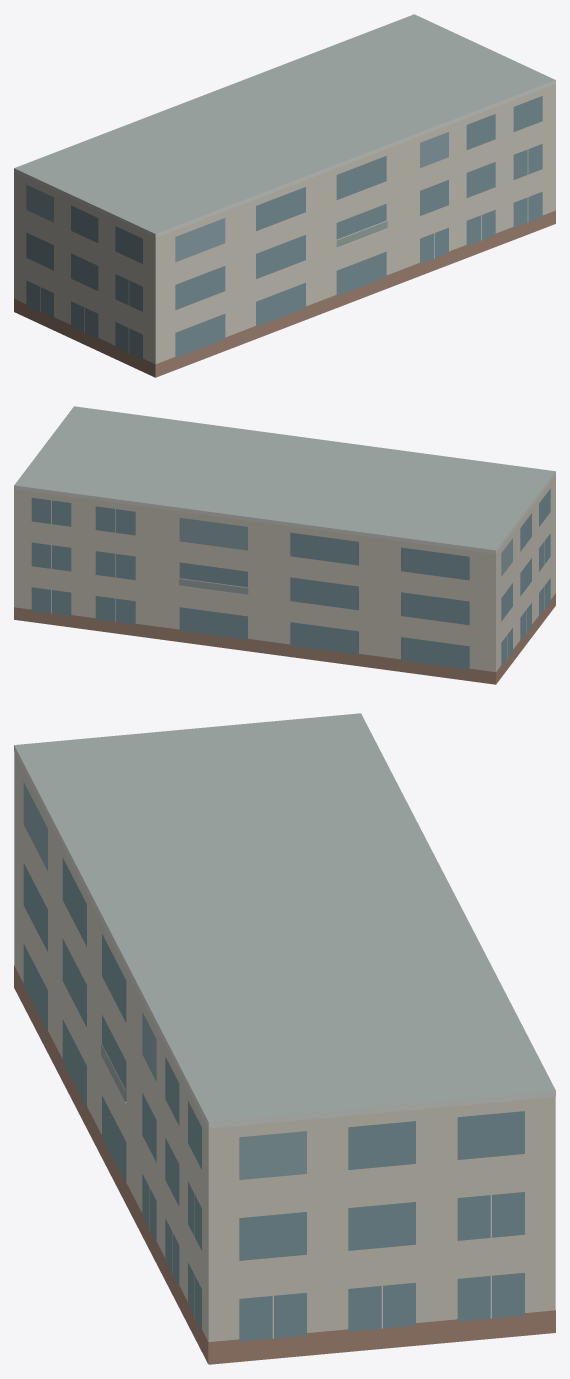
The model's file is survey-upis-32696551.glb.
The picture shows the model from 3 angles, top to bottom: view 1: azimuth 30°, elevation 25°; view 2: azimuth 150°, elevation 25°; view 3: azimuth 270°, elevation 25°; orthographic projection. The views are drawn at different scales.
Visible parts, largest first — view 1: survey-upis-32696551.tmp; view 2: survey-upis-32696551.tmp; view 3: survey-upis-32696551.tmp.
Boxes of the visible parts, <box> form: survey-upis-32696551.tmp: <box>14,14,555,377</box>; survey-upis-32696551.tmp: <box>14,406,555,684</box>; survey-upis-32696551.tmp: <box>14,713,555,1364</box>.
Size of the model in its own units: 33.1 by 9.15 by 18.53.
